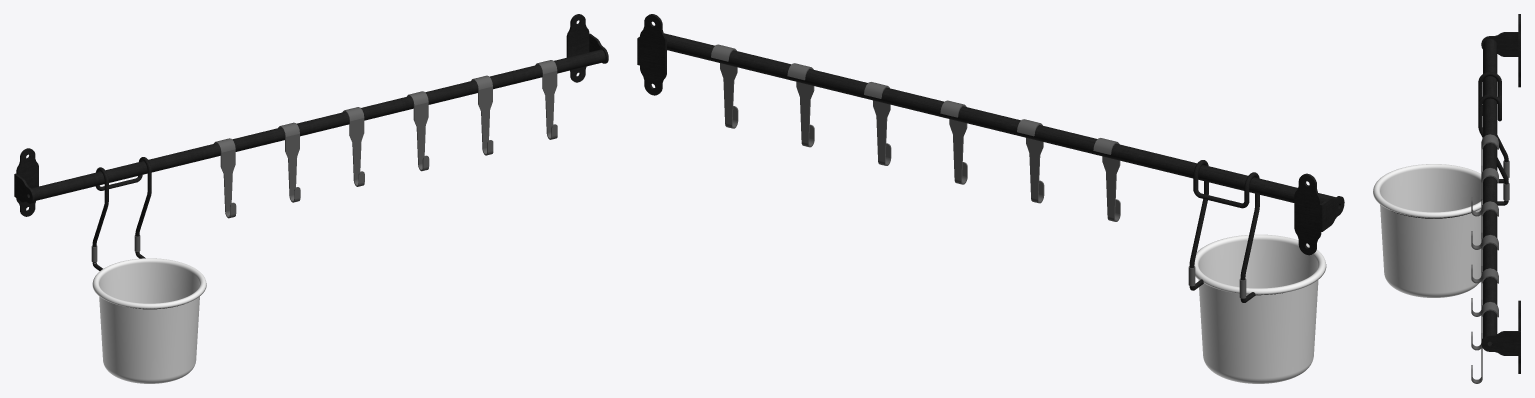
Rendered from 097 - stand divari jadid meshki goldan sefid.glb.
The picture shows the model from 3 angles, left to right: view 1: azimuth 30°, elevation 25°; view 2: azimuth 150°, elevation 25°; view 3: azimuth 270°, elevation 25°; orthographic projection. The views are drawn at different scales.
Parts seen in each view (by area): view 1: Group#30 [70111], Group#4 [70123], Group#1 [97146] (×6), [10669], [3059], [2176]; view 2: Group#30 [70111], Group#4 [70123], Group#1 [97146] (×6), [10669], [3059], [2176], Group#159 [3595]; view 3: Group#30 [70111], Group#4 [70123], Group#1 [97146] (×6), Group#159 [3595] (×2), [10669], [2176], [3059].
Boxes of the visible parts, x1,y1,x2,y2 form: Group#30 [70111]: [92, 258, 206, 383]; Group#4 [70123]: [31, 49, 605, 200]; Group#1 [97146] (×6): [213, 60, 557, 218]; [10669]: [92, 157, 183, 309]; [3059]: [566, 14, 589, 82]; [2176]: [16, 148, 38, 216]; Group#30 [70111]: [1194, 234, 1326, 383]; Group#4 [70123]: [664, 33, 1335, 203]; Group#1 [97146] (×6): [711, 44, 1120, 221]; [10669]: [1189, 160, 1282, 302]; [3059]: [640, 14, 666, 95]; [2176]: [1294, 173, 1321, 255]; Group#159 [3595]: [1320, 196, 1344, 231]; Group#30 [70111]: [1373, 164, 1482, 297]; Group#4 [70123]: [1483, 38, 1497, 345]; Group#1 [97146] (×6): [1471, 134, 1498, 383]; Group#159 [3595] (×2): [1481, 32, 1520, 355]; [10669]: [1392, 71, 1508, 218]; [2176]: [1518, 14, 1520, 87]; [3059]: [1518, 300, 1520, 373].
Bounding box in the file's own units: 0.806 × 0.2792 × 0.168.
Materials: 4 (2 with a texture image).
